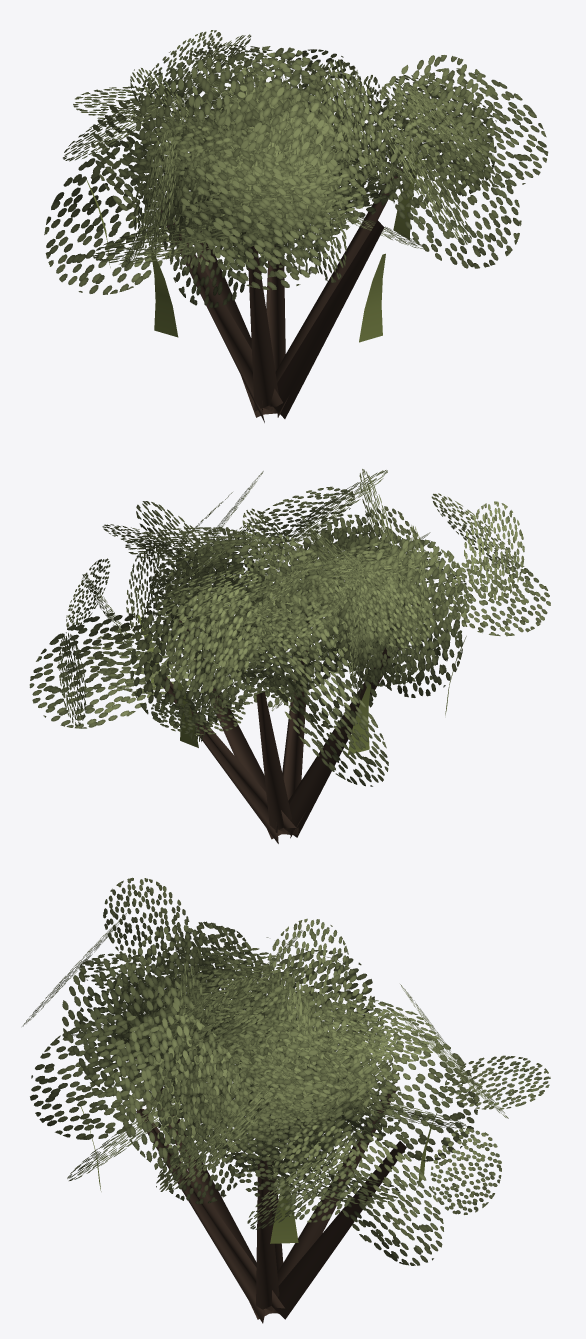
The model's file is caral_pacae_lod1.glb.
The picture shows the model from 3 angles, top to bottom: view 1: azimuth 30°, elevation 25°; view 2: azimuth 150°, elevation 25°; view 3: azimuth 270°, elevation 25°; orthographic projection. The views are drawn at different scales.
Visible parts, largest first — view 1: GEO-Kit_pacae_LOD1; view 2: GEO-Kit_pacae_LOD1; view 3: GEO-Kit_pacae_LOD1.
Boxes of the visible parts, box(x1,y1,x2,y2) form: GEO-Kit_pacae_LOD1: box(44, 30, 548, 422); GEO-Kit_pacae_LOD1: box(29, 469, 550, 843); GEO-Kit_pacae_LOD1: box(22, 877, 550, 1323).
Size of the model in its own units: 2.02 by 1.54 by 1.95.
3 materials, 1 textured.
